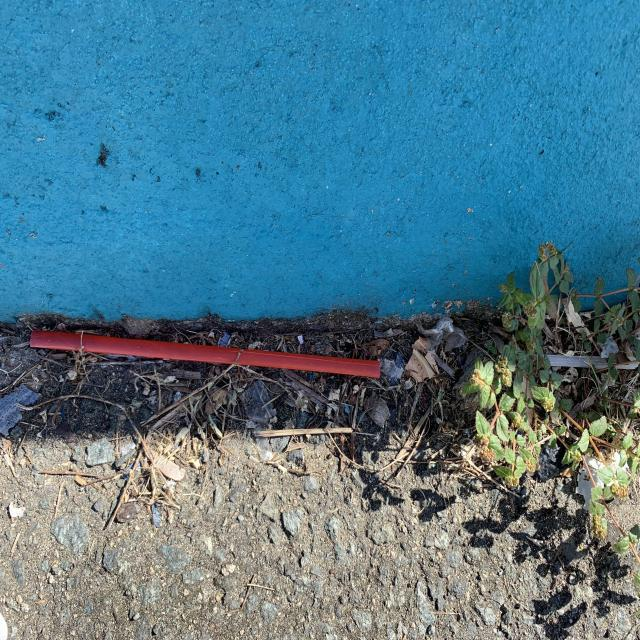litter: (30, 330, 380, 378), (547, 355, 639, 368)
